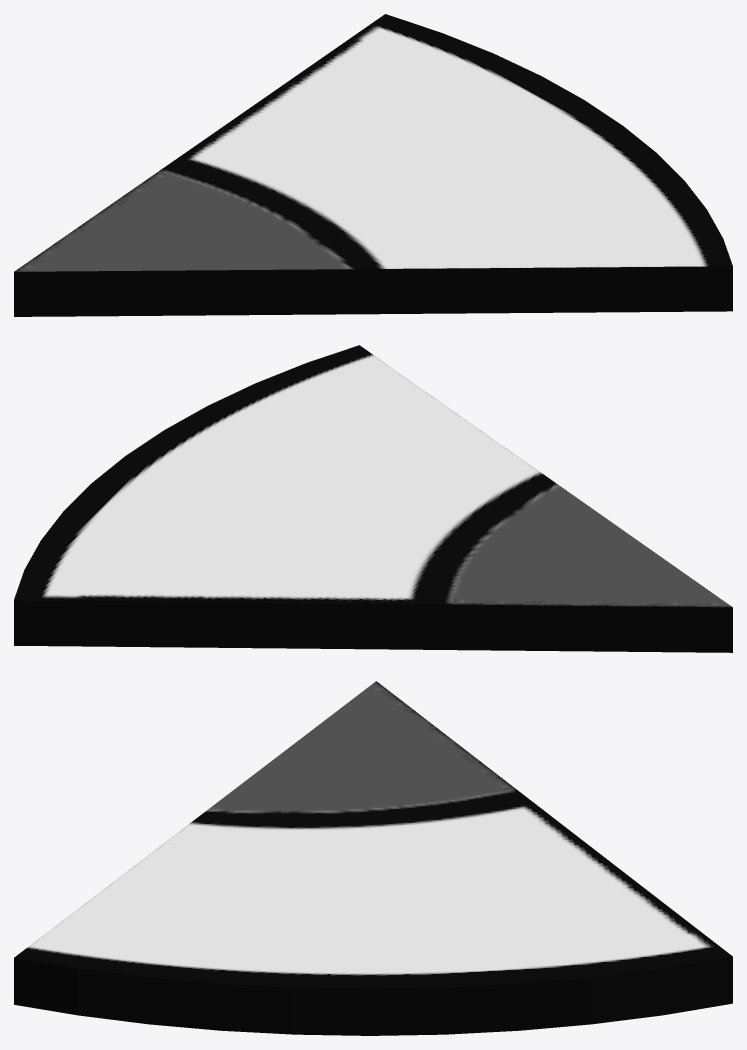
Rendered from FlatlanderEye.fbx.
The picture shows the model from 3 angles, top to bottom: view 1: azimuth 30°, elevation 25°; view 2: azimuth 150°, elevation 25°; view 3: azimuth 270°, elevation 25°; orthographic projection. The views are drawn at different scales.
Visible parts, largest first — view 1: FlatlanderEye; view 2: FlatlanderEye; view 3: FlatlanderEye.
Part boxes in pixels (bbox=[...]): FlatlanderEye: bbox=[14, 14, 732, 316]; FlatlanderEye: bbox=[14, 345, 732, 652]; FlatlanderEye: bbox=[14, 681, 732, 1035].
Size of the model in its own units: 95.34 by 6.78 by 94.06.
Materials: 1 (1 with a texture image).
